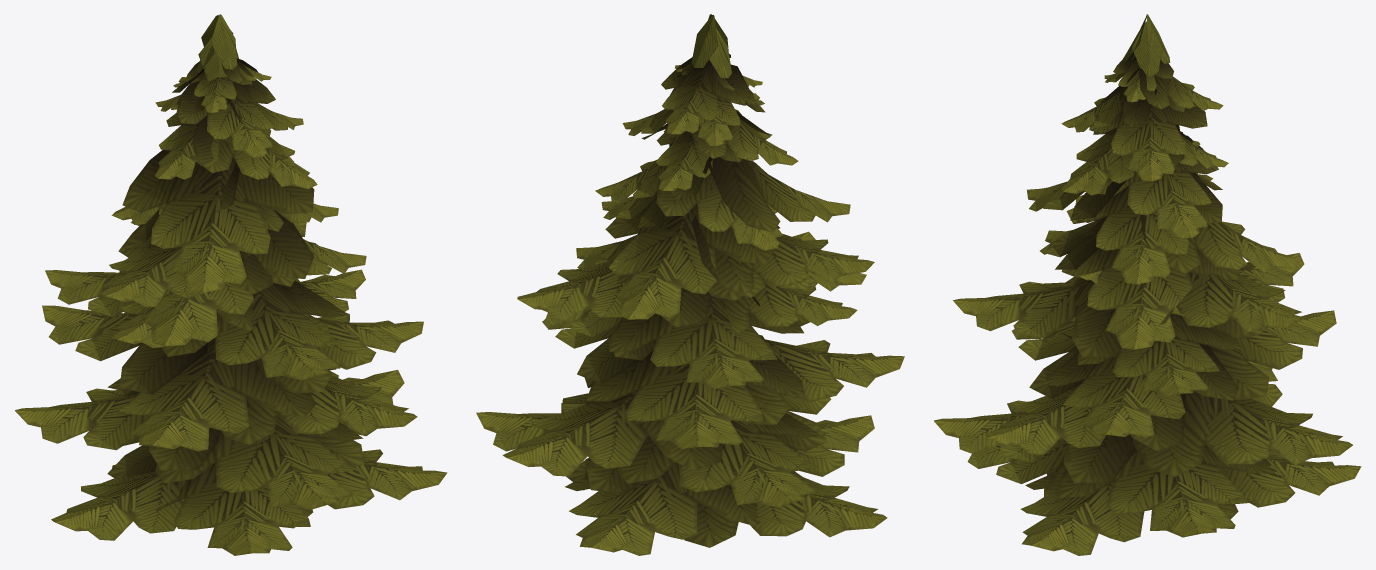
The model's file is pine_tree_ver3.glb.
3 views of the same model, side by side, from view 1: azimuth 30°, elevation 25°; view 2: azimuth 150°, elevation 25°; view 3: azimuth 270°, elevation 25° (orthographic). The views are drawn at different scales.
Parts seen in each view (by area): view 1: Leaves/001; view 2: Leaves/001; view 3: Leaves/001.
Part boxes in pixels (x1,y1,x2,y2): Leaves/001: [15, 14, 447, 555]; Leaves/001: [476, 14, 904, 555]; Leaves/001: [934, 14, 1361, 555].
Size of the model in its own units: 2.17 by 2.65 by 2.17.
Materials: 2 (2 with a texture image).
